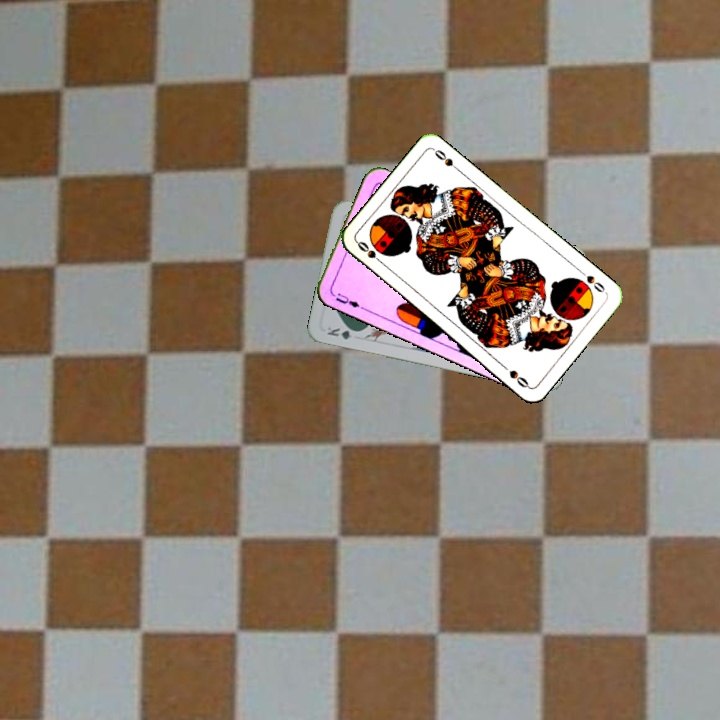EU: (331, 289, 366, 312)
GK: (321, 323, 363, 342)
SO: (353, 237, 387, 268), (575, 266, 609, 296)
